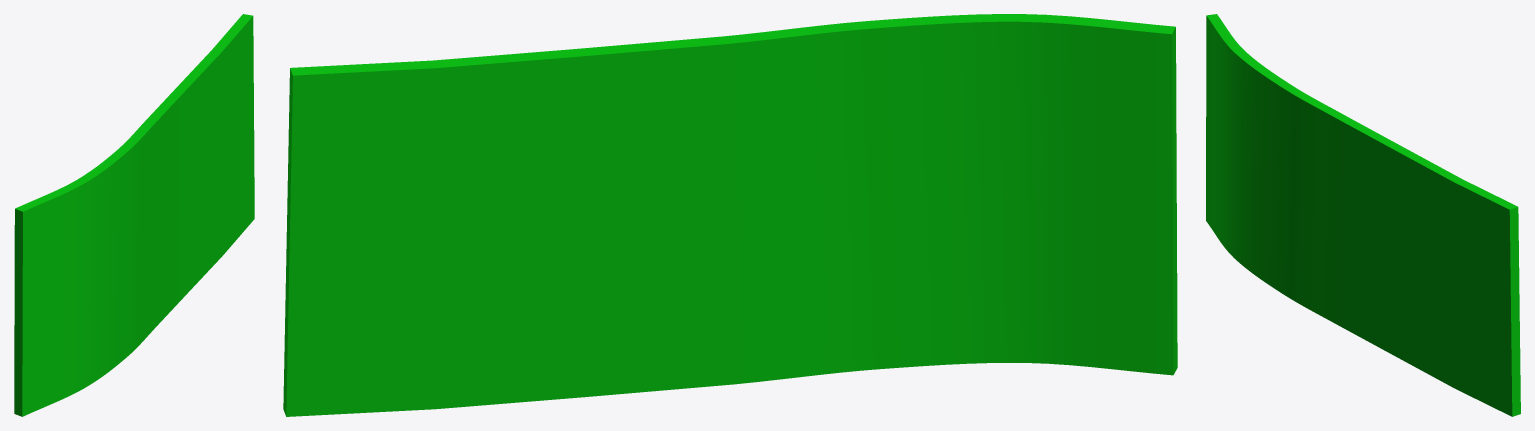
File: silverstone_colliders.FBX
3 views of the same model, side by side, from view 1: azimuth 30°, elevation 25°; view 2: azimuth 150°, elevation 25°; view 3: azimuth 270°, elevation 25° (orthographic). The views are drawn at different scales.
Visible parts, largest first — view 1: Shape005; view 2: Shape005; view 3: Shape005.
Part boxes in pixels (box(x1,y1,x2,y2)): Shape005: box(14, 14, 254, 416); Shape005: box(283, 14, 1177, 416); Shape005: box(1206, 14, 1520, 416).
Size of what is drawn, in the model's own units: 780 by 411 by 546.
